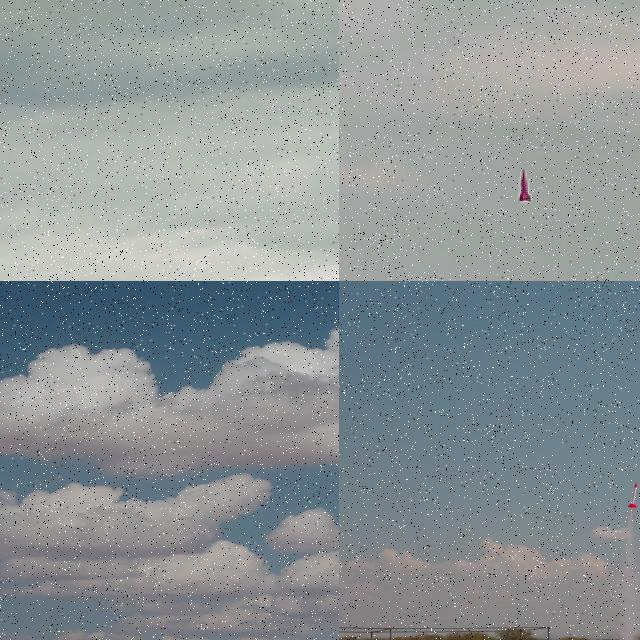Rocket: (516, 168, 532, 204), (628, 483, 638, 508)
